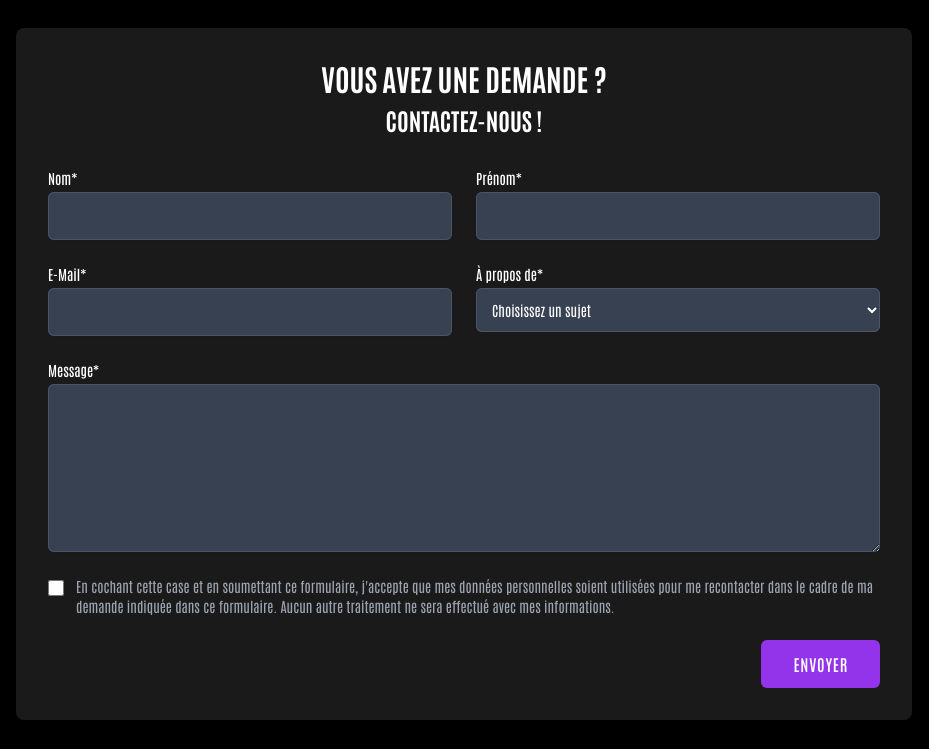
ContactView — form validation › shows a required error when email is missing
The width and height of the screenshot is (929, 749).
Type "Dupont" into the field with id "lastName". click: (250, 216)
box: [48,192,452,240]
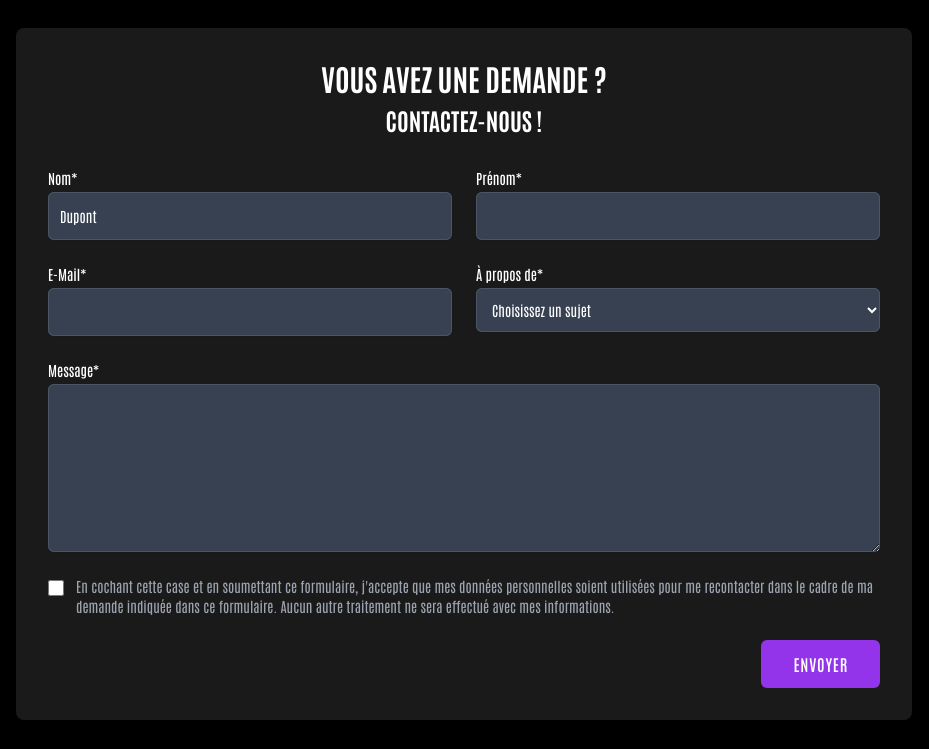
Type "Marie" into the field with id "firstName". click: (678, 216)
box: [476,192,880,240]
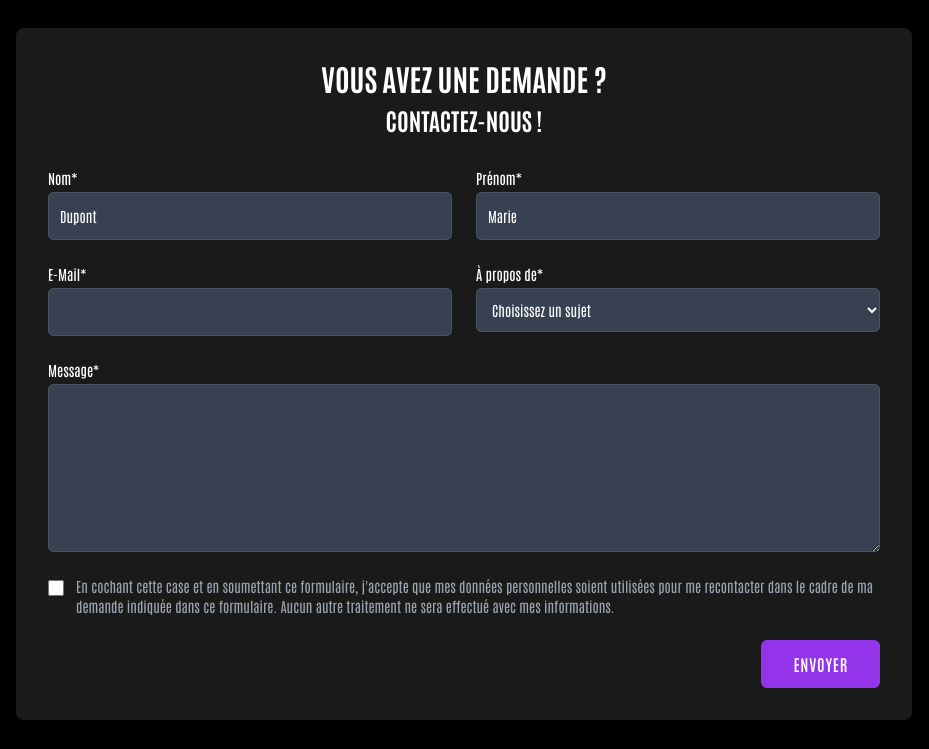
Select "Autre" in the dropdown with id "about". click: (678, 310)
box: [476,288,880,332]
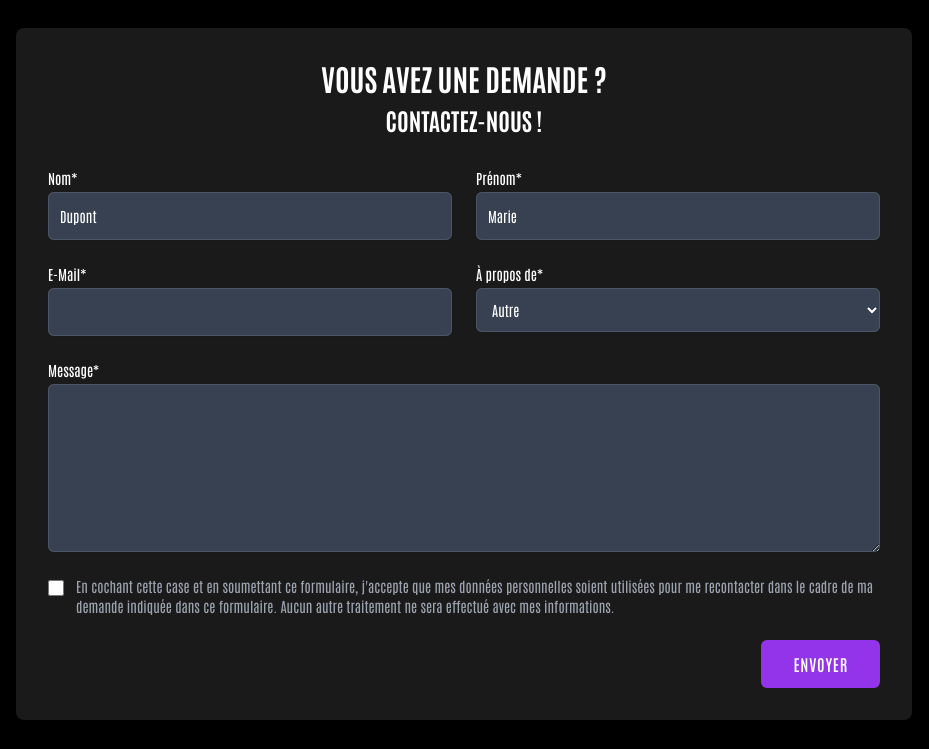
Type "Bonjour" into the text box with id "message". click: (464, 468)
box: [48,384,880,552]
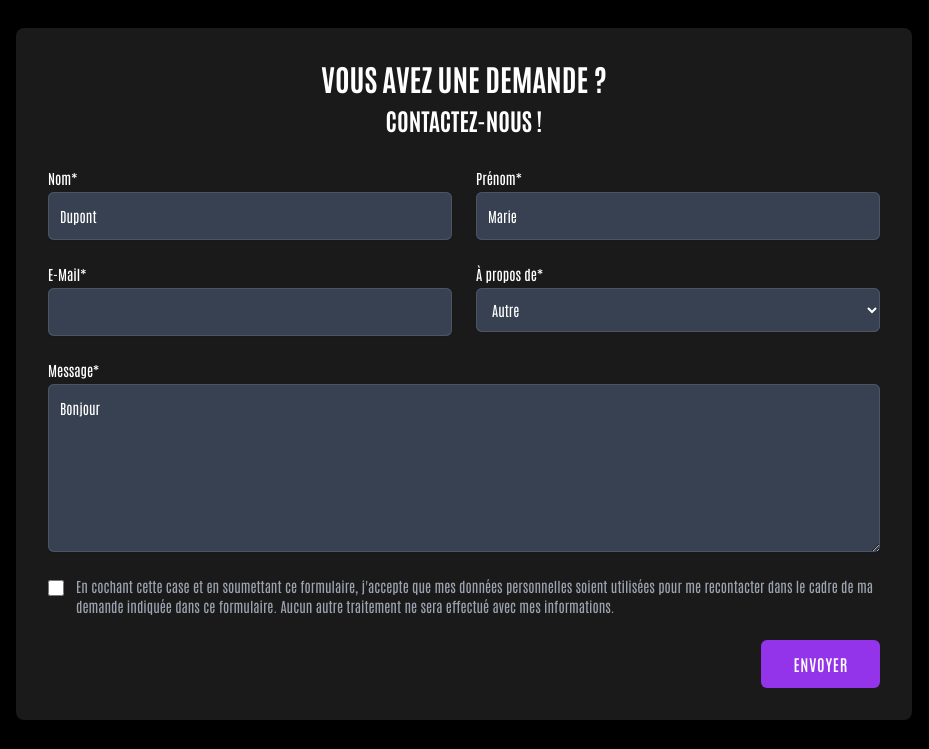
Click the checkbox with id "consent". click: (56, 588)
box: [48,580,64,596]
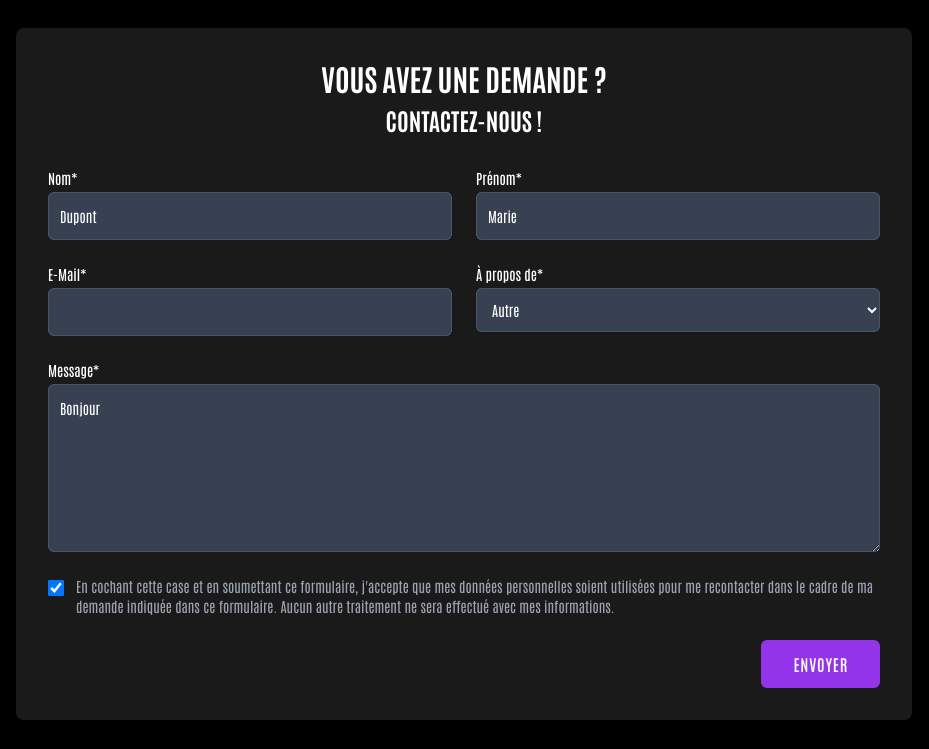
Submit the form
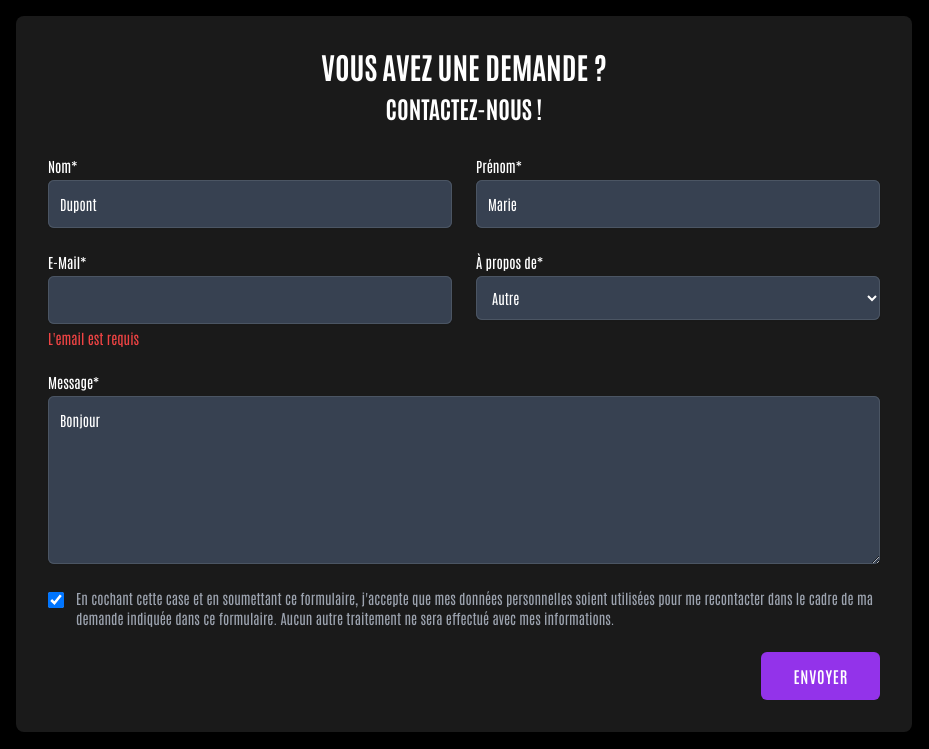
Result: the text "L'email est requis" is shown at [48,329,139,347]
